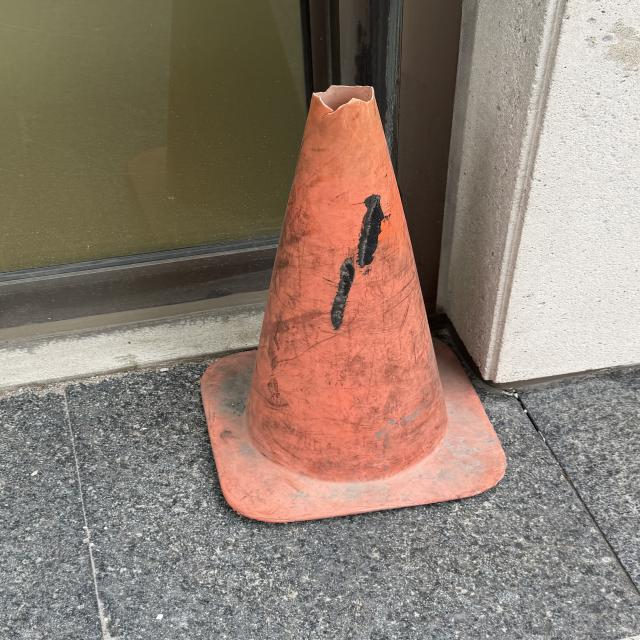Traffic Cone: (197, 83, 508, 526)
